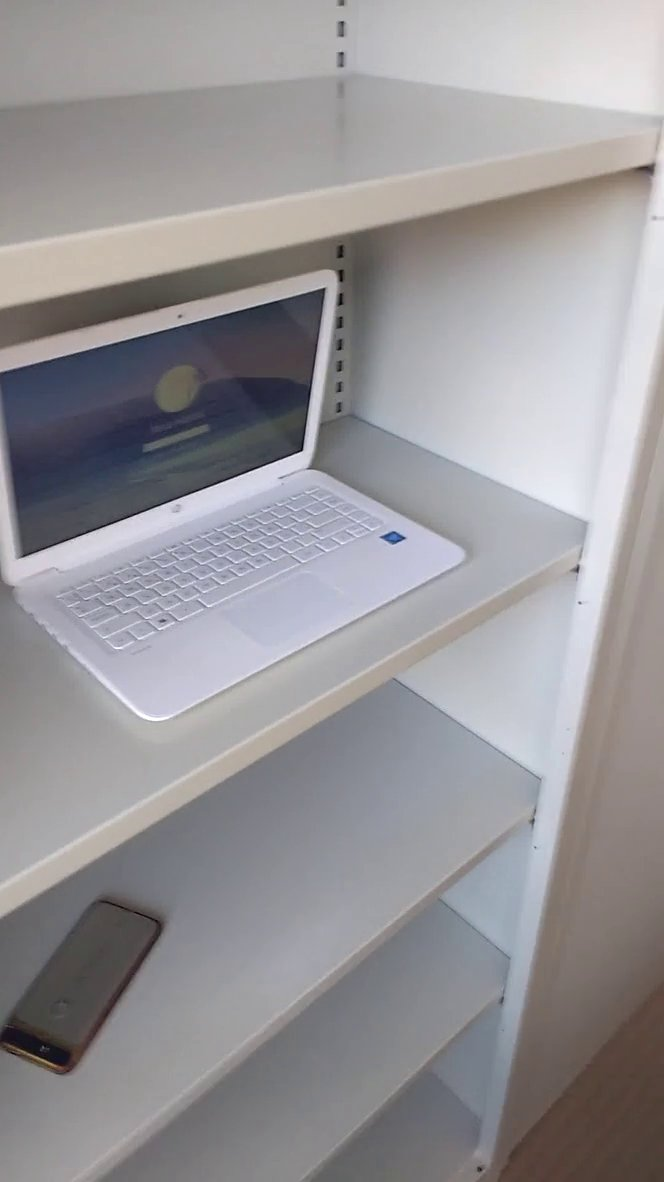laptop: (2, 263, 486, 741)
phone: (1, 887, 179, 1081)
